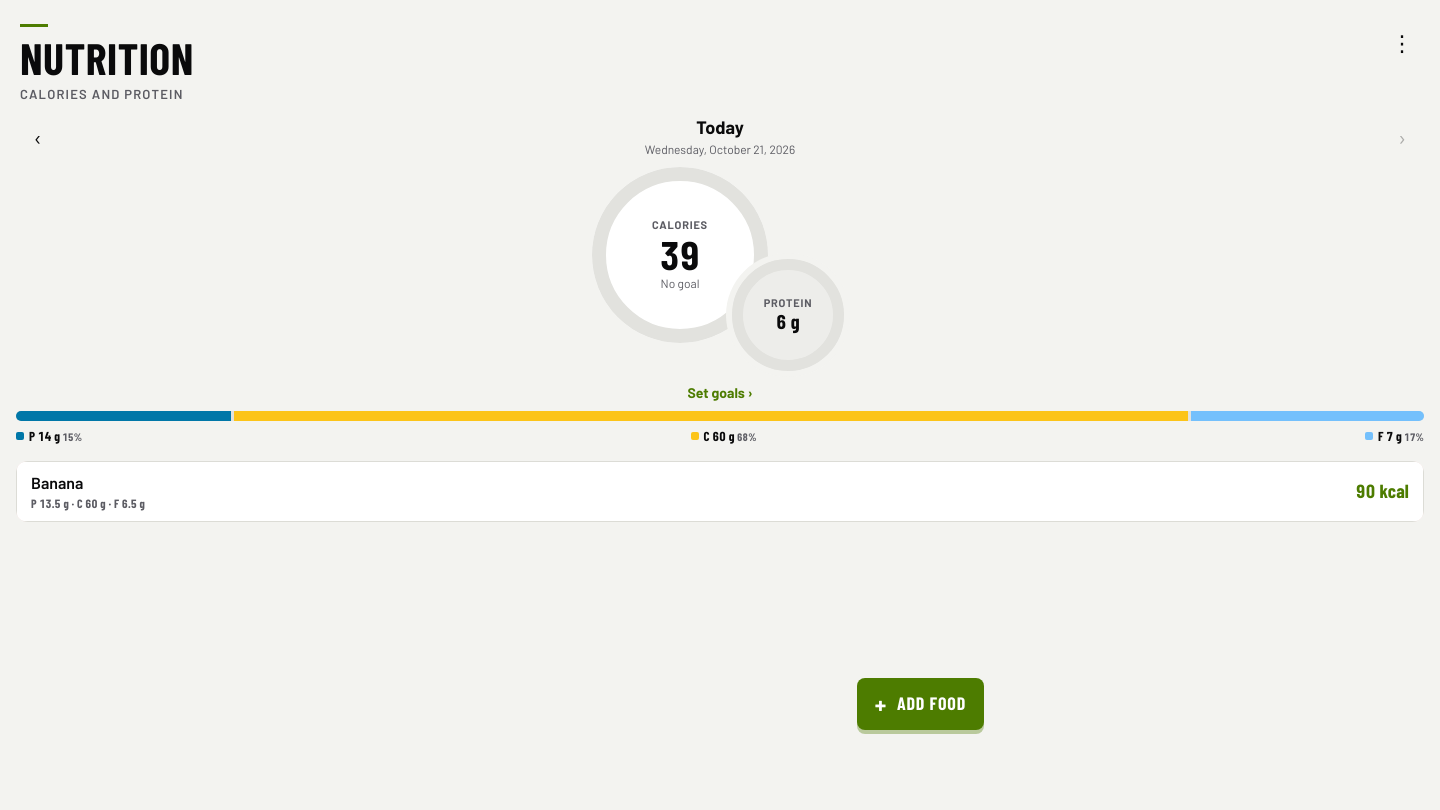
Test case: copy yesterday › is also in the day menu when the day already has entries
Expected: the text "Banana" is shown, [31,473,83,492]
What coordinates should you click on to do the following:
click the button named "Day actions"
I would click on:
 (1402, 42)
Its box is [1380,20,1424,64].
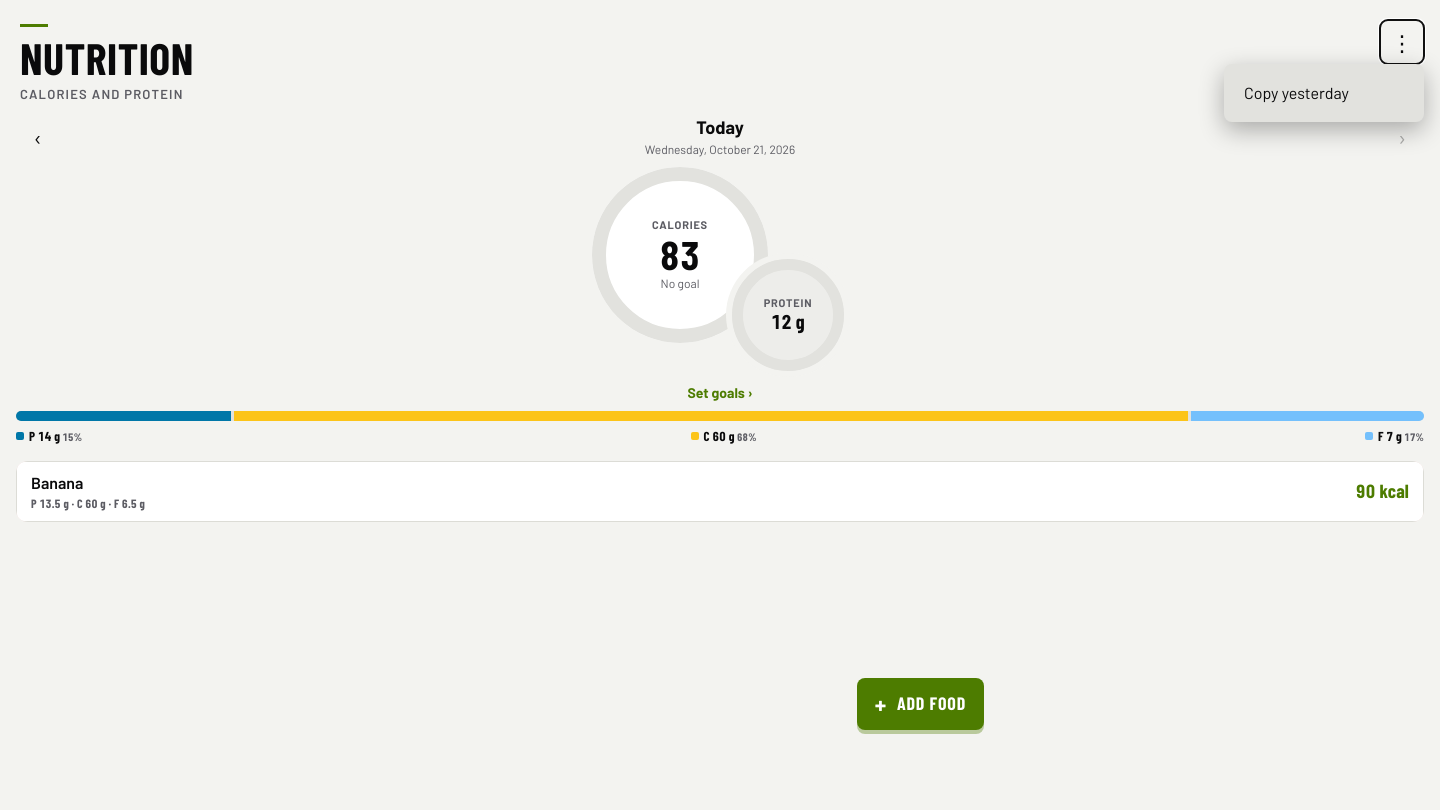
What coordinates should you click on to do the following:
click the button "Copy yesterday"
I would click on:
 (1324, 93)
Its box is [1230,70,1418,116].
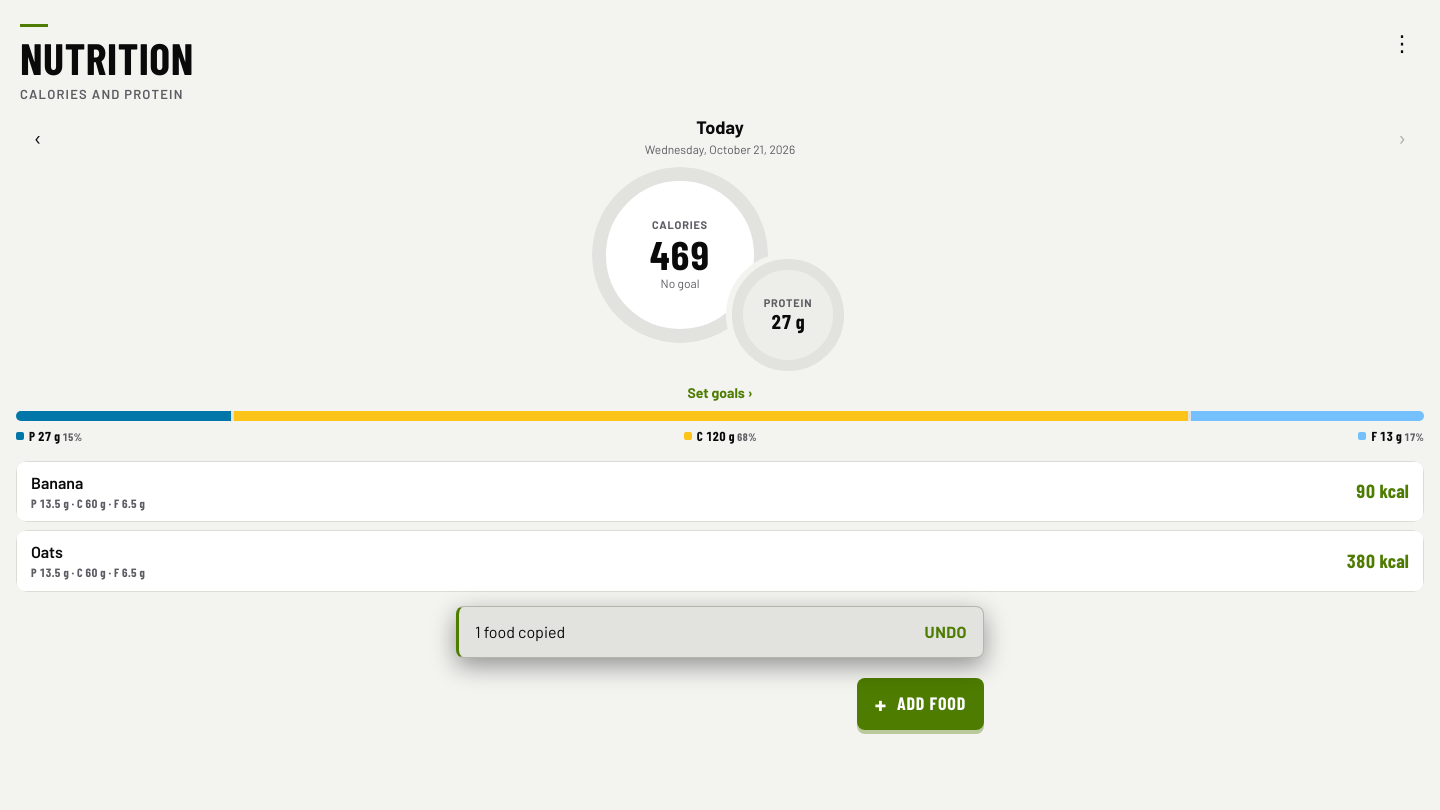
Result: the text "1 food copied" is shown at [475,622,565,641]
Result: the text "Oats" is shown at [31,542,63,561]
